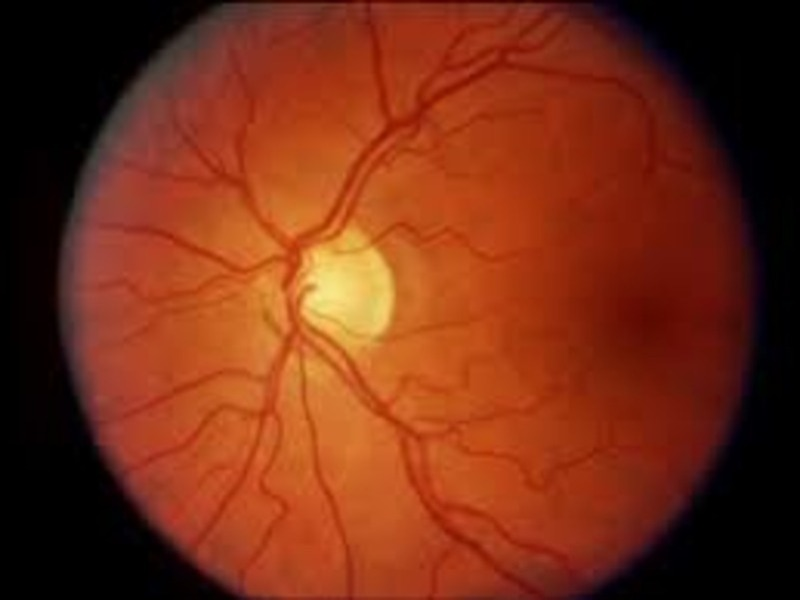Optic Cup: (304, 225, 395, 334)
Optic Disc: (260, 216, 398, 364)
